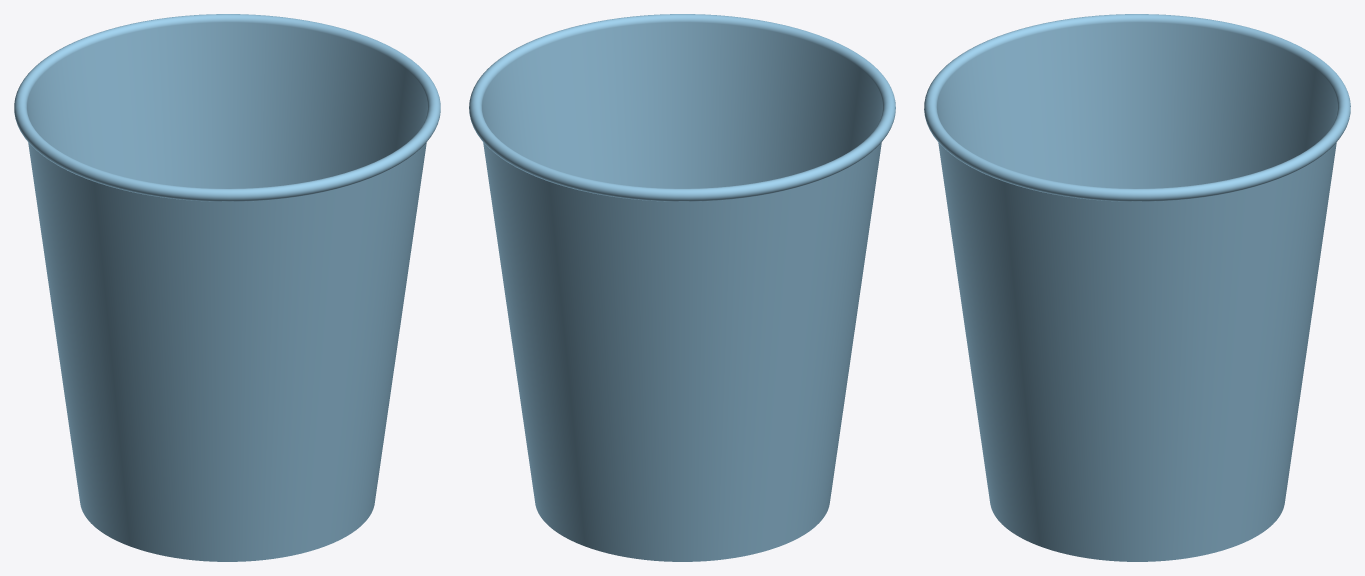
Rendered from paper_cup.dae.
3 renders of one model, left to right at view 1: azimuth 30°, elevation 25°; view 2: azimuth 150°, elevation 25°; view 3: azimuth 270°, elevation 25°, orthographic.
Visible parts, largest first — view 1: ID2; view 2: ID2; view 3: ID2.
Part boxes in pixels (x1=…): ID2: x1=14, y1=14, x2=440, y2=561; ID2: x1=469, y1=14, x2=895, y2=561; ID2: x1=924, y1=14, x2=1350, y2=561.
Bounding box in the file's own units: 0.072 × 0.072 × 0.074.
